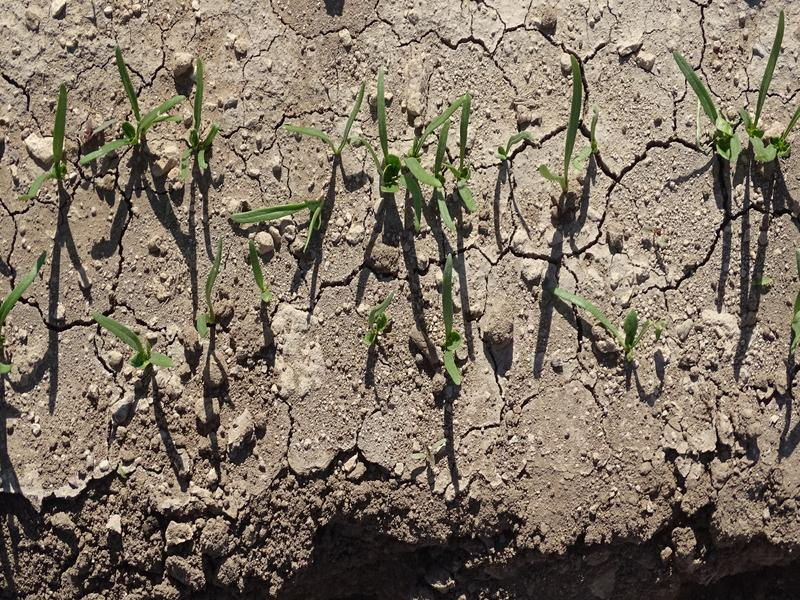Espinaca: (28, 49, 183, 199), (672, 16, 789, 163), (367, 89, 479, 232), (545, 274, 650, 358), (547, 49, 600, 194), (274, 77, 369, 153), (227, 192, 334, 238), (93, 314, 173, 372), (187, 57, 219, 175), (441, 261, 466, 387), (202, 241, 228, 339), (1, 266, 43, 316), (248, 242, 279, 309)
